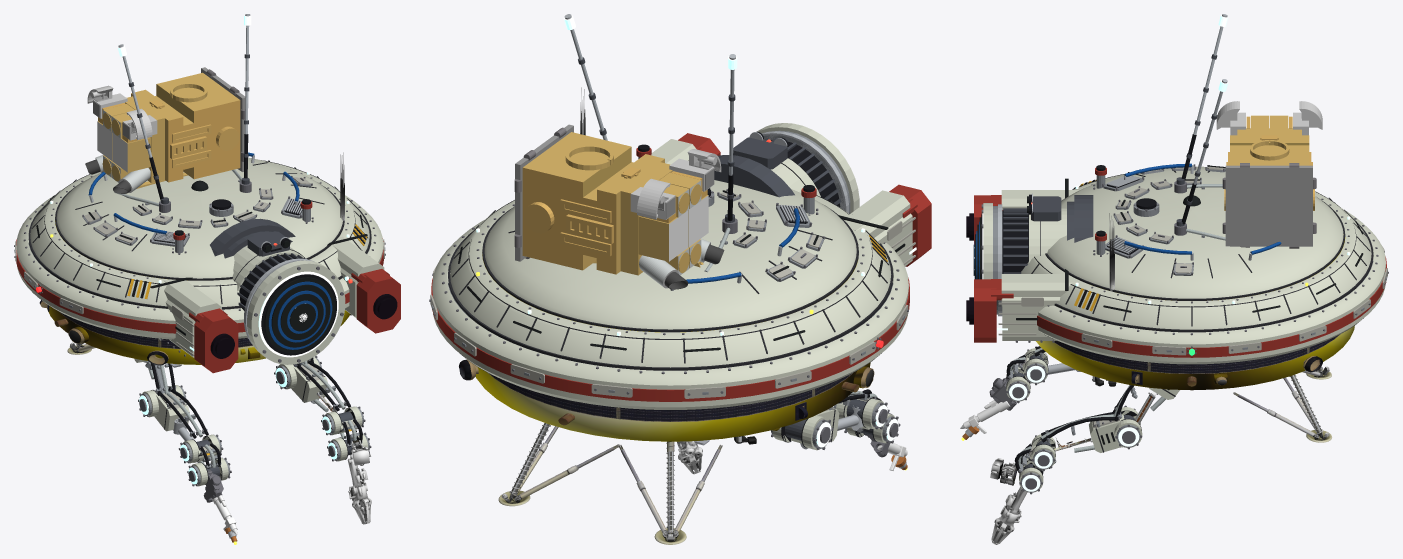
The model's file is fleet-drone-repair-near.glb.
The picture shows the model from 3 angles, left to right: view 1: azimuth 30°, elevation 25°; view 2: azimuth 150°, elevation 25°; view 3: azimuth 270°, elevation 25°; orthographic projection. The views are drawn at different scales.
Parts seen in each view (by area): view 1: drone; view 2: drone; view 3: drone.
Part boxes in pixels (<box>): drone: <box>14,14,400,544</box>; drone: <box>429,14,931,544</box>; drone: <box>960,14,1388,544</box>.
Size of the model in its own units: 1.05 by 1.34 by 1.13.
Materials: 1 (1 with a texture image).
